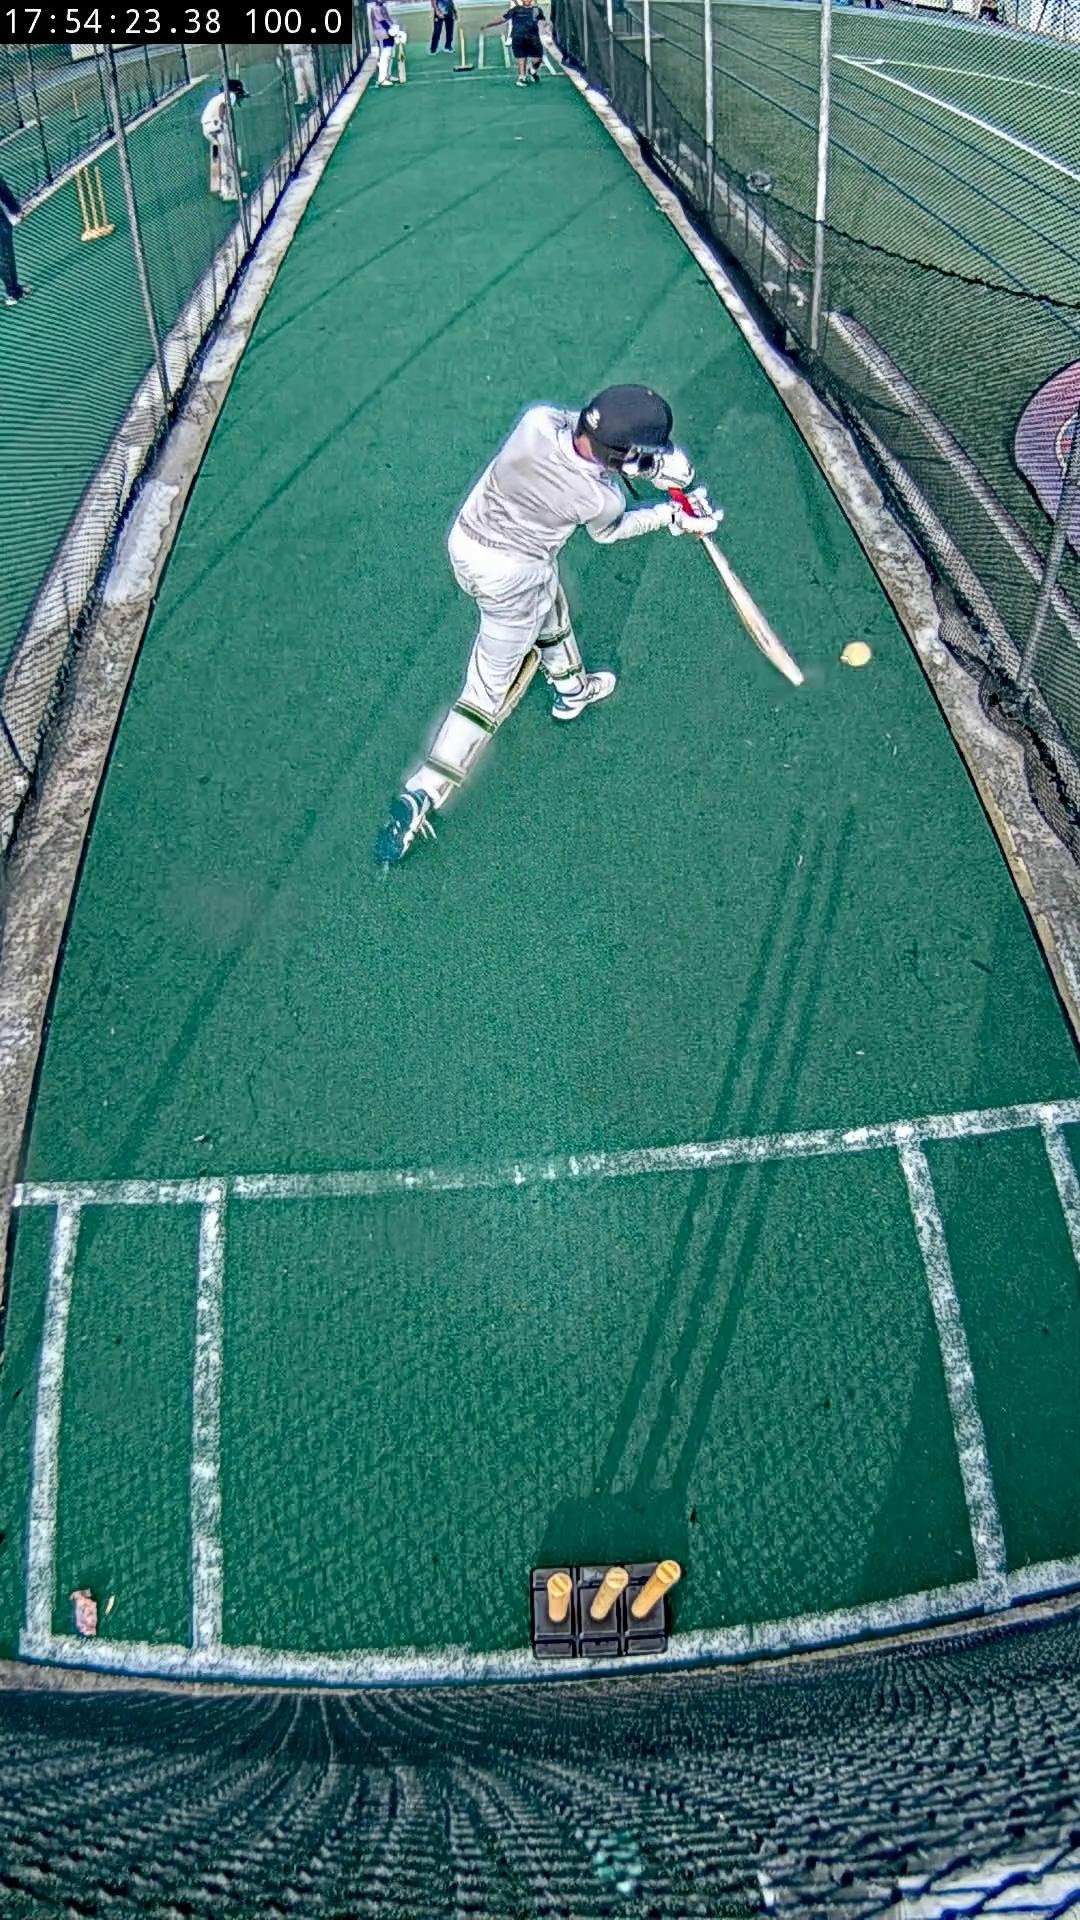ball: (840, 641, 874, 667)
bat: (702, 537, 803, 686)
gloves: (671, 488, 724, 530), (653, 446, 694, 489)
helmet: (578, 382, 671, 476)
pads: (447, 646, 545, 794), (560, 587, 588, 684)
stumps: (529, 1560, 683, 1662)
